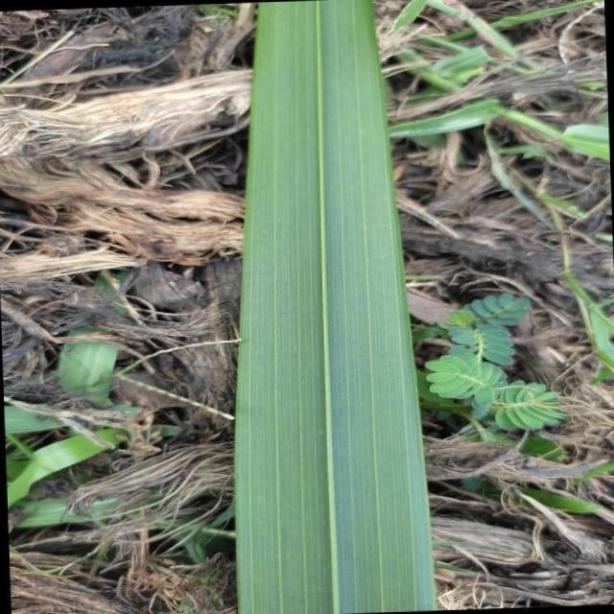Healthy: (238, 0, 435, 614)
